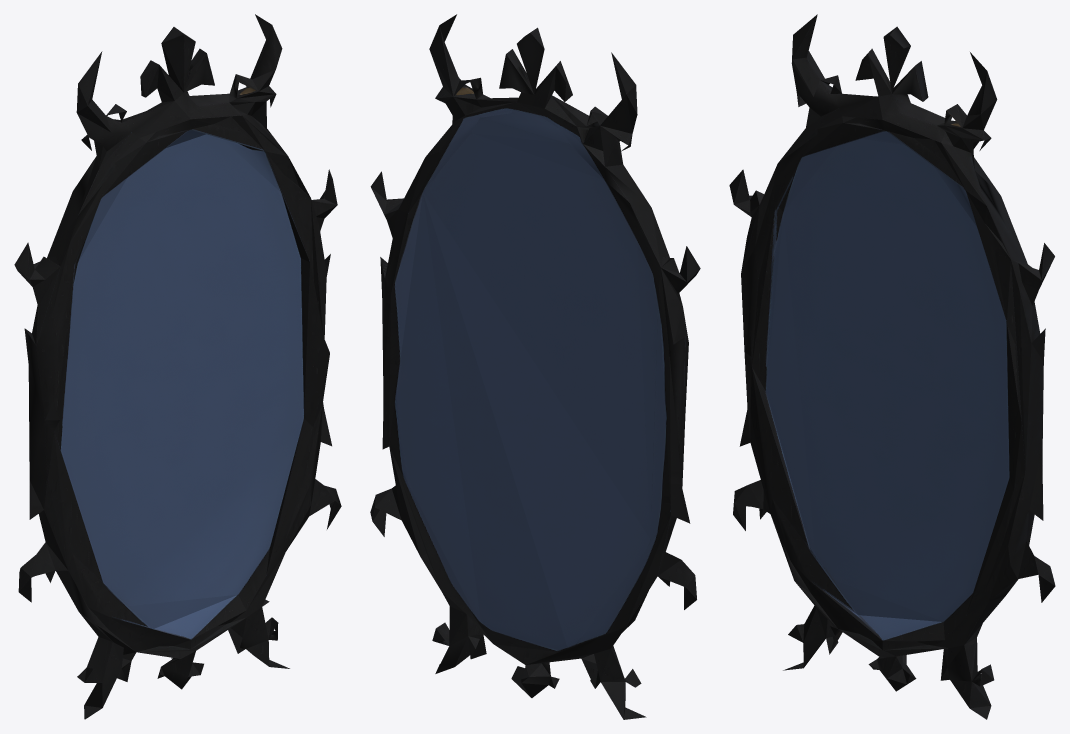
Rendered from ENV_WallMirror.fbx.
The picture shows the model from 3 angles, left to right: view 1: azimuth 30°, elevation 25°; view 2: azimuth 150°, elevation 25°; view 3: azimuth 330°, elevation 25°; orthographic projection.
Parts seen in each view (by area): view 1: Mesh_0; view 2: Mesh_0; view 3: Mesh_0.
Part boxes in pixels (<box>): Mesh_0: <box>14,14,341,719</box>; Mesh_0: <box>370,14,700,719</box>; Mesh_0: <box>729,14,1055,719</box>.
Size of the model in its own units: 98.13 by 190 by 12.96.
Materials: 1 (1 with a texture image).
